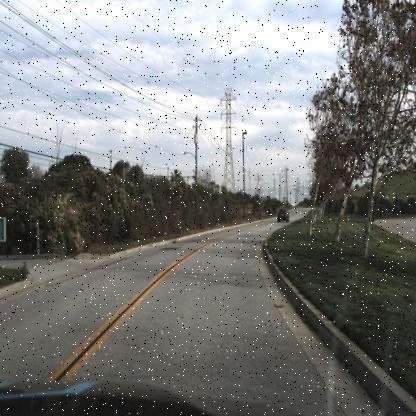car: (274, 205, 292, 225)
